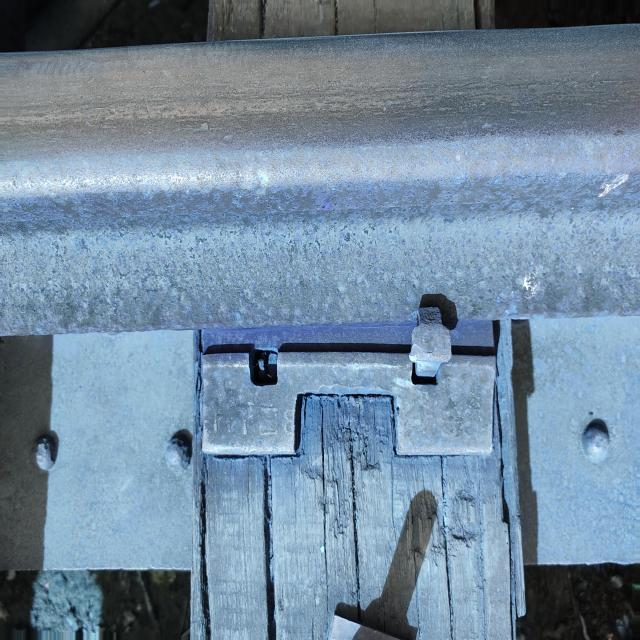Good Fasteners: (409, 307, 452, 379)
Missing Fastener: (249, 348, 278, 385)
